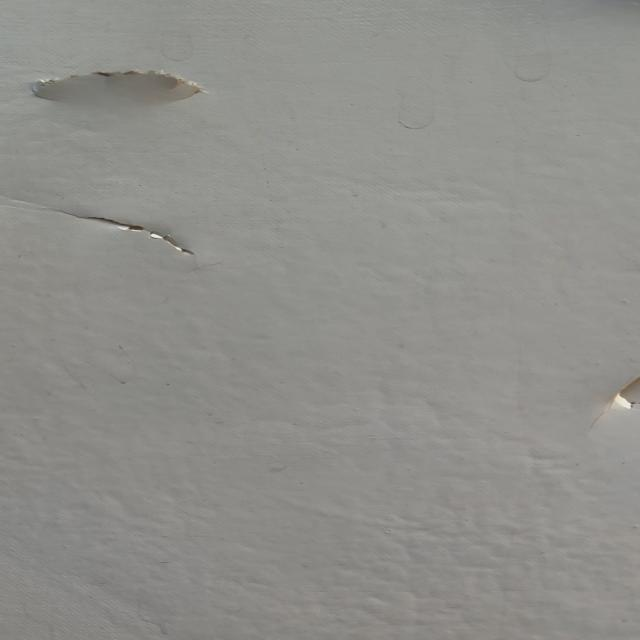Scratches: (8, 208, 220, 267), (10, 64, 217, 122), (583, 364, 640, 427)
